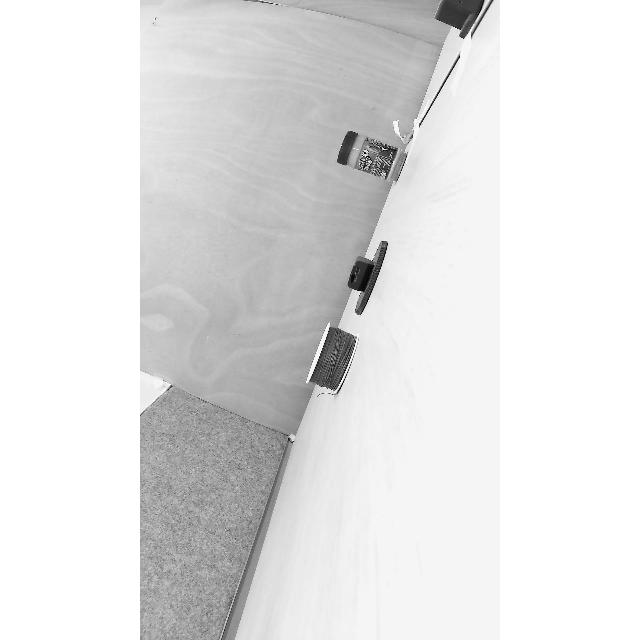targets: (337, 128, 409, 184), (304, 323, 361, 393), (346, 237, 392, 317)
